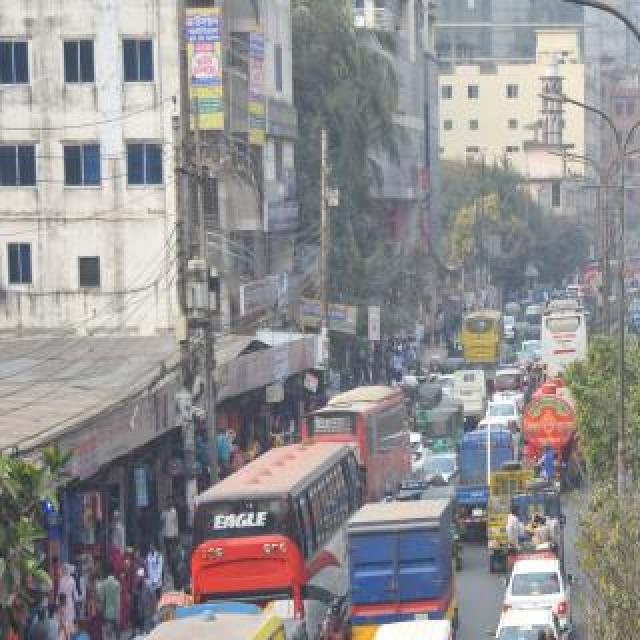bus: (190, 438, 358, 640), (307, 384, 411, 492), (6, 610, 296, 640), (541, 298, 589, 388), (461, 309, 505, 377)
car: (505, 557, 573, 627), (494, 610, 562, 640), (423, 452, 459, 484), (486, 400, 524, 430)
motorbike: (531, 442, 563, 492), (322, 596, 352, 640)
truck: (523, 377, 583, 481)
van: (346, 502, 456, 640), (459, 428, 511, 528), (489, 467, 537, 565), (509, 484, 567, 564), (352, 618, 458, 640), (449, 368, 487, 418), (492, 362, 526, 406), (626, 296, 640, 332)
